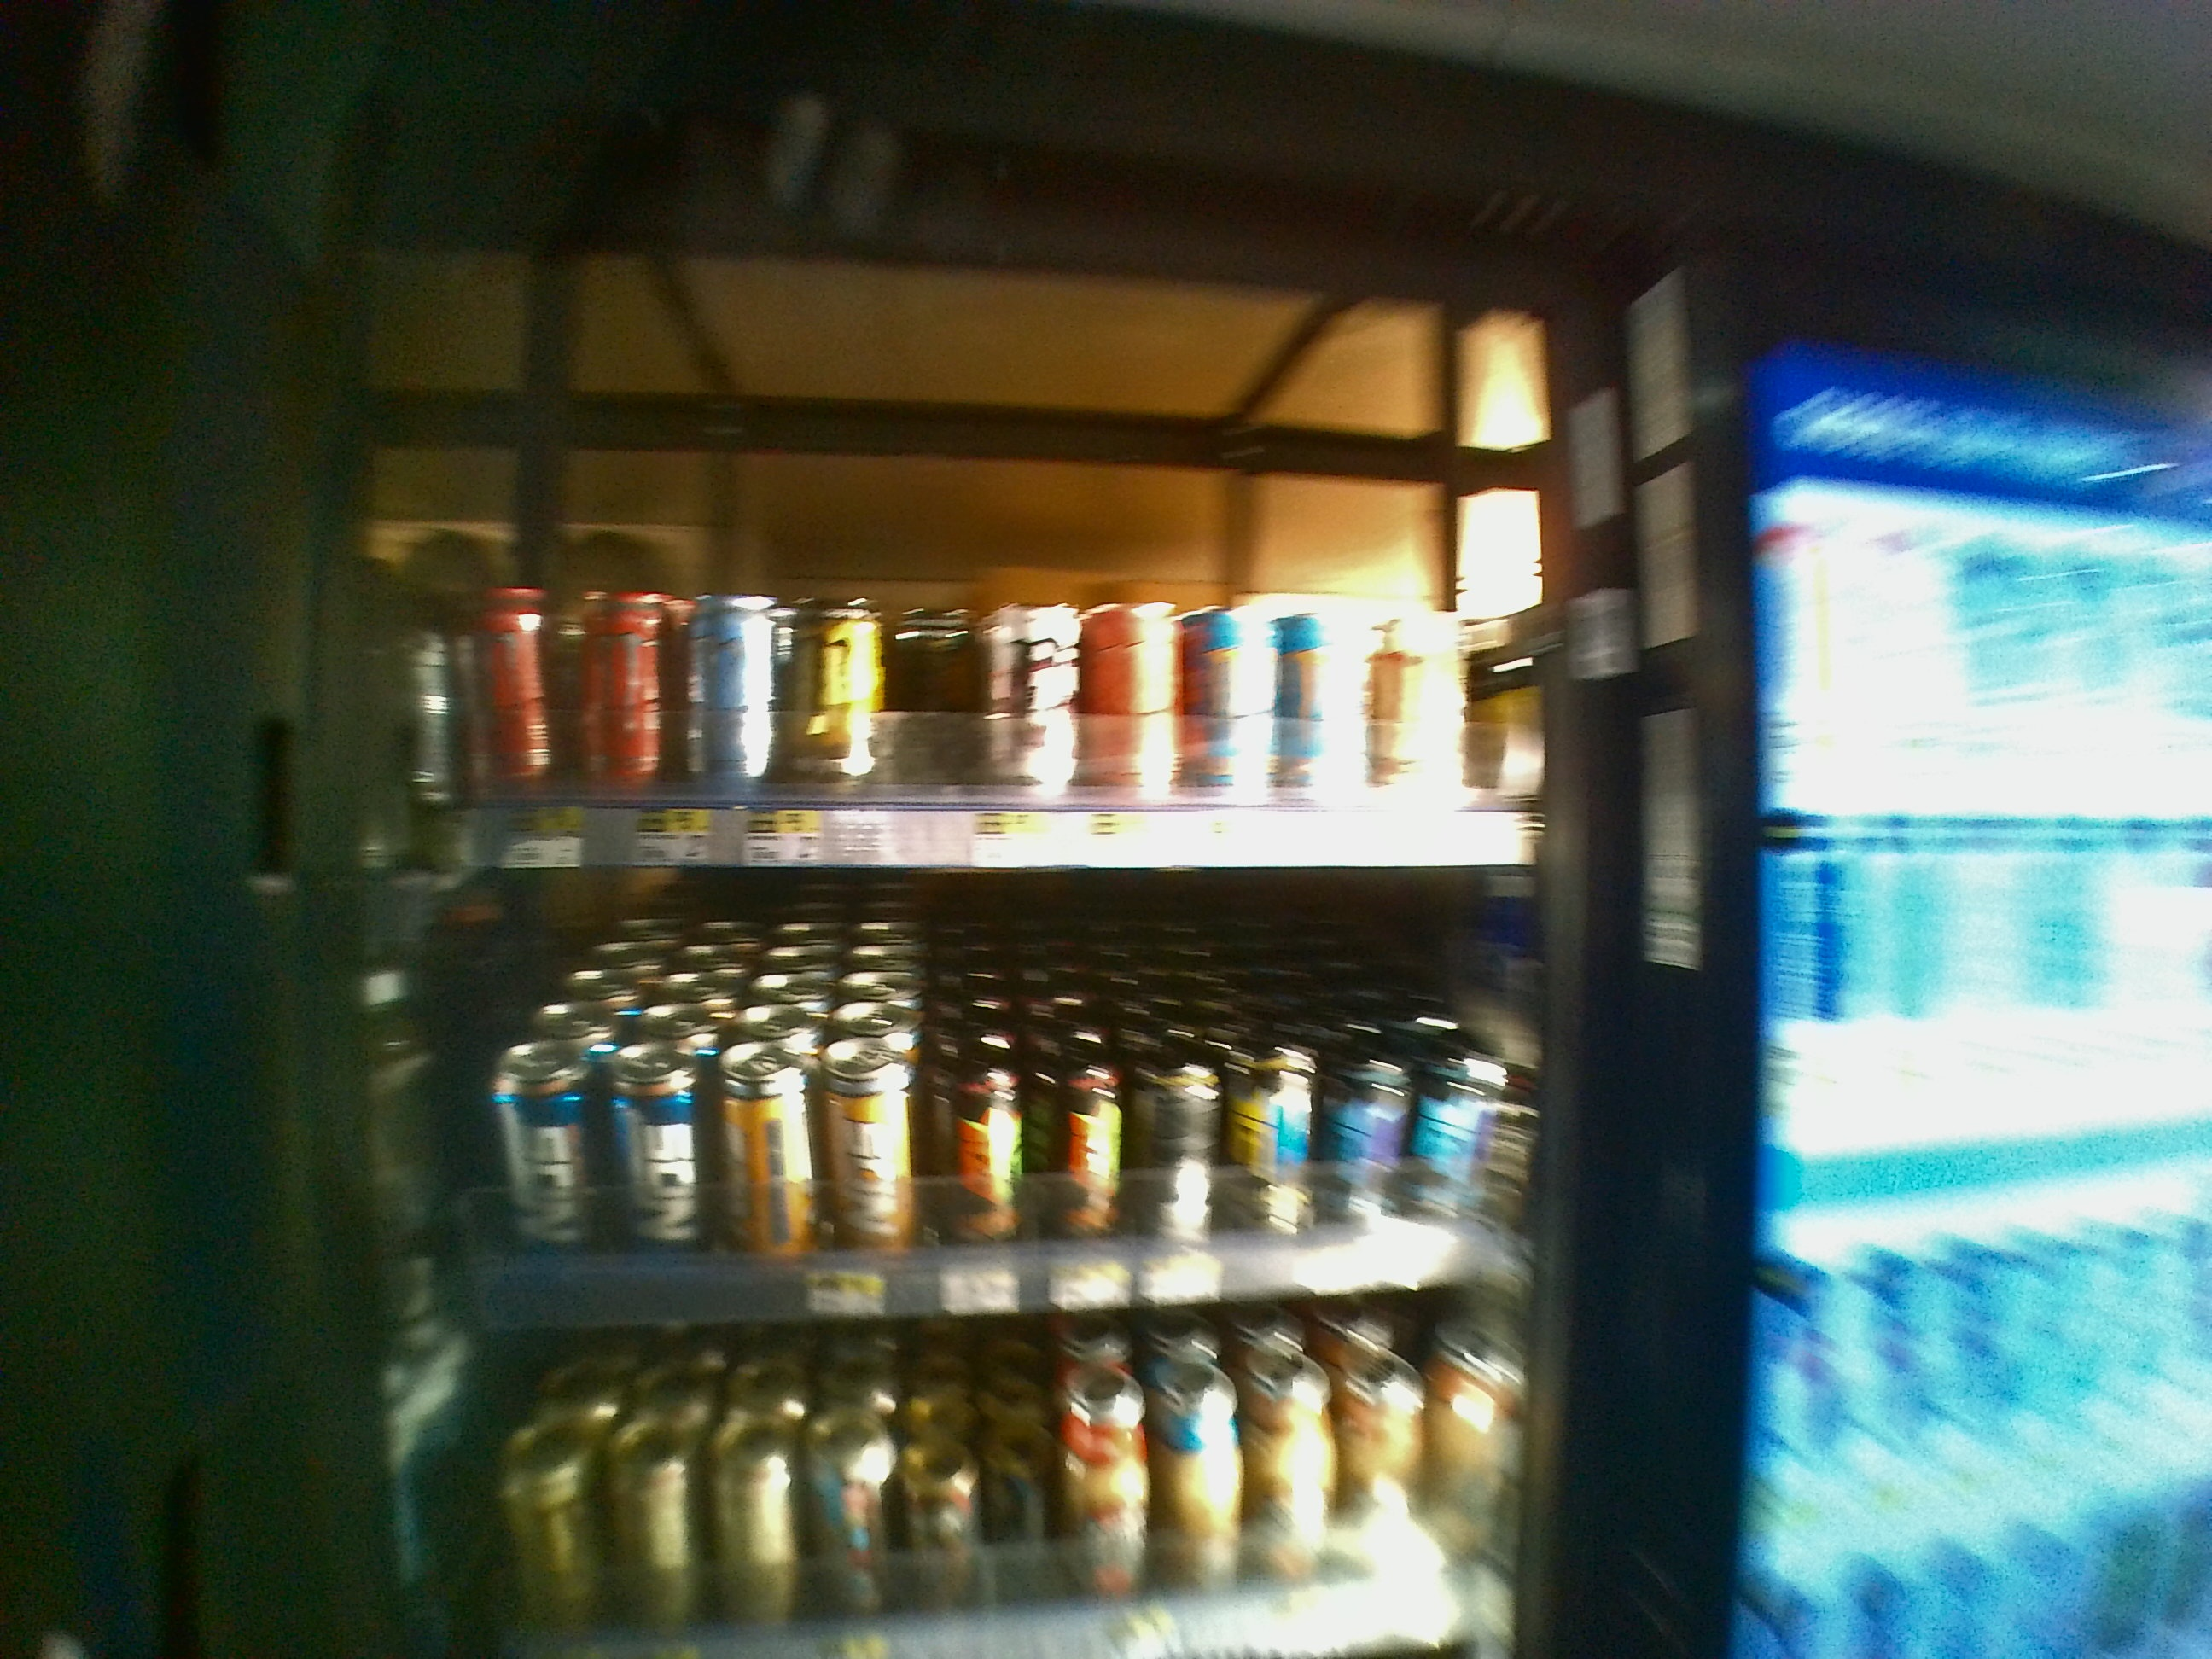shelf: (378, 286, 1569, 875), (364, 866, 1571, 1307)
